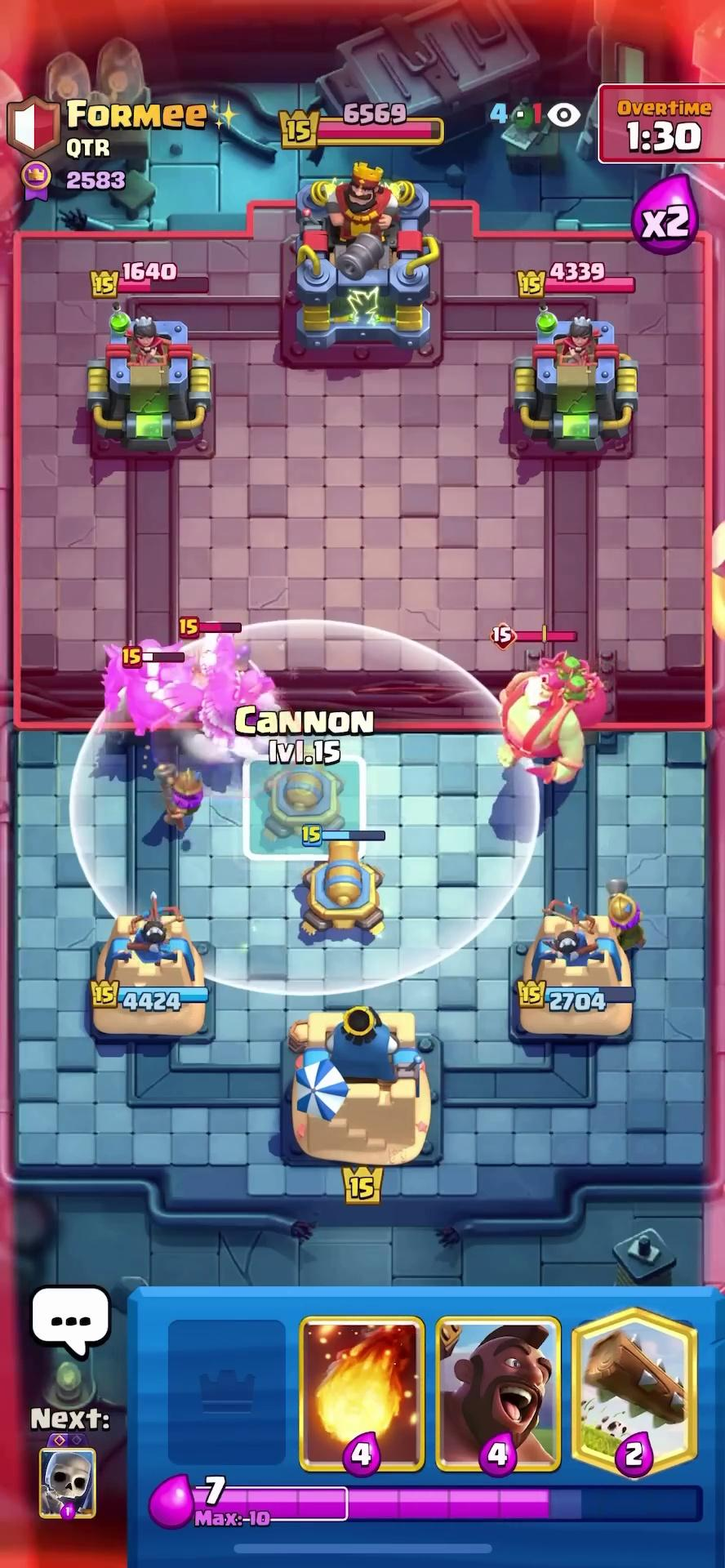cannon: (280, 813, 390, 945)
musketeer: (151, 757, 227, 839), (594, 868, 655, 951)
